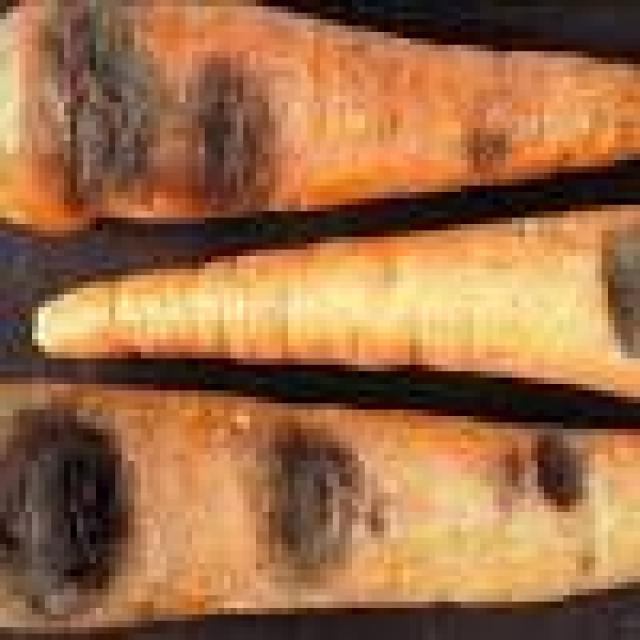Stale_Carrot: (0, 2, 640, 222), (34, 208, 640, 396)
